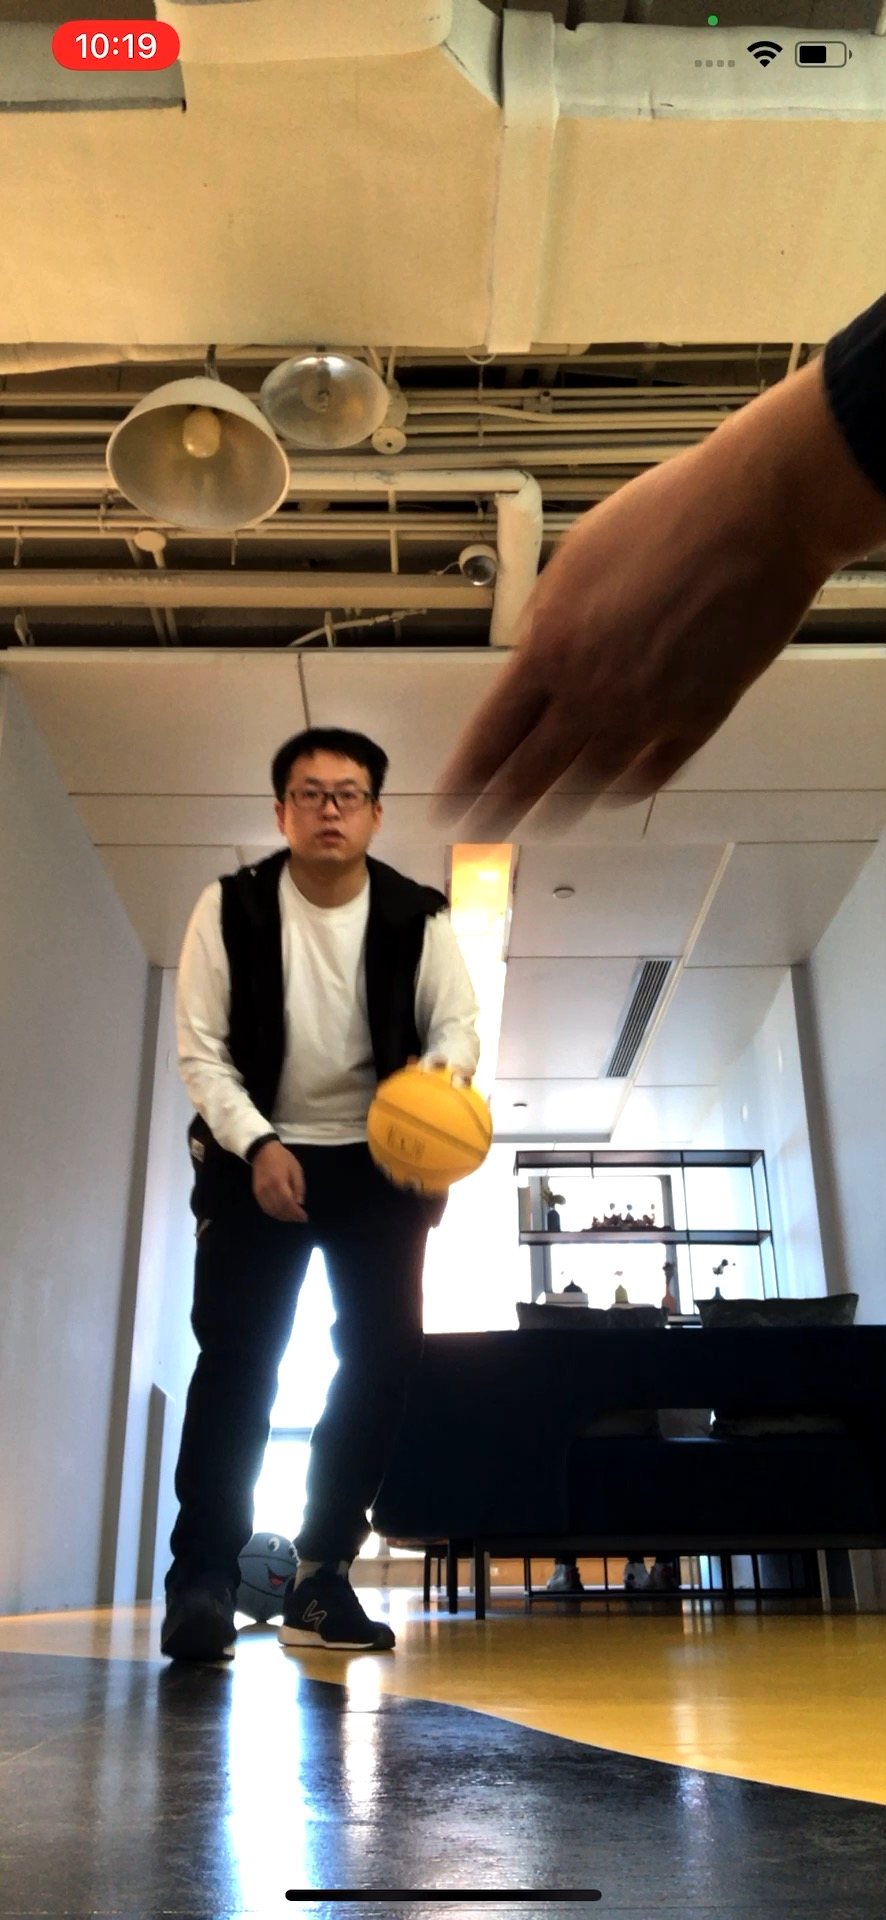ball: (365, 1060, 501, 1196)
